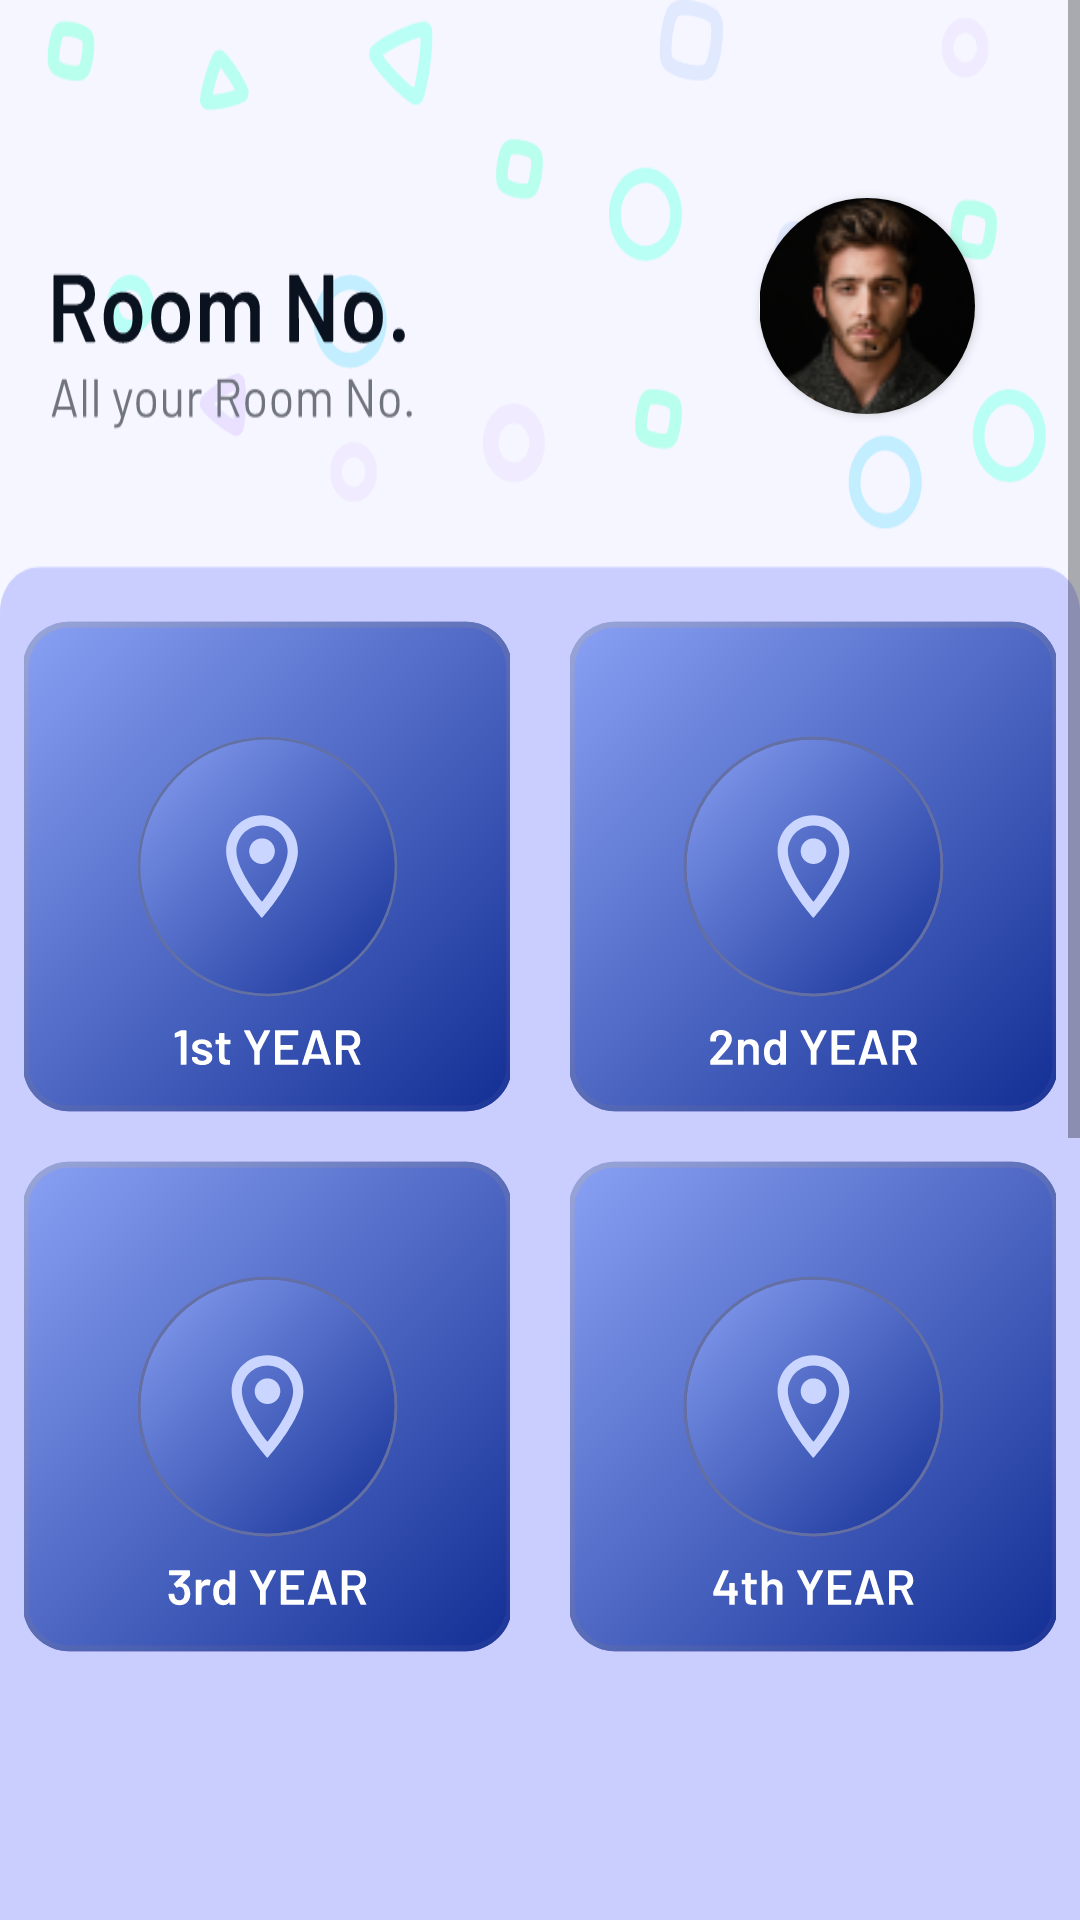

Where icons sit on this 1080x1920 app screen, as [x1=x1, y1=y1, x2=x2, y2=y2]:
men profile: [x1=760, y1=198, x2=975, y2=414]
